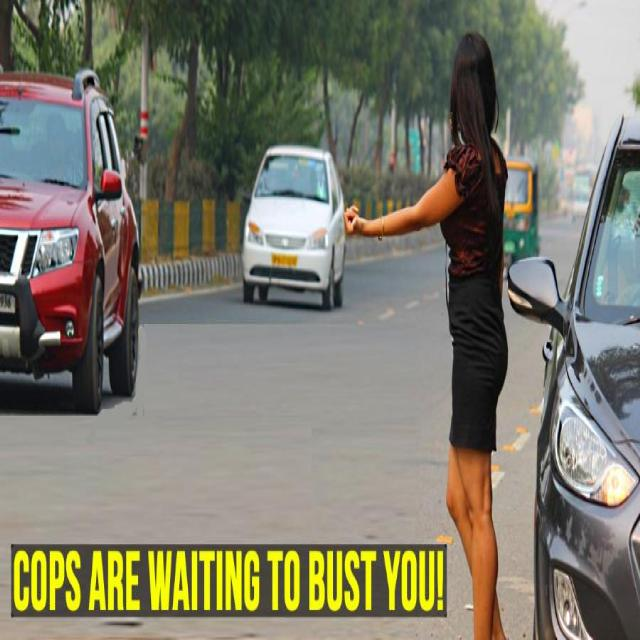autorickshaw: (504, 159, 539, 268)
car: (0, 70, 139, 412), (242, 144, 345, 309)
